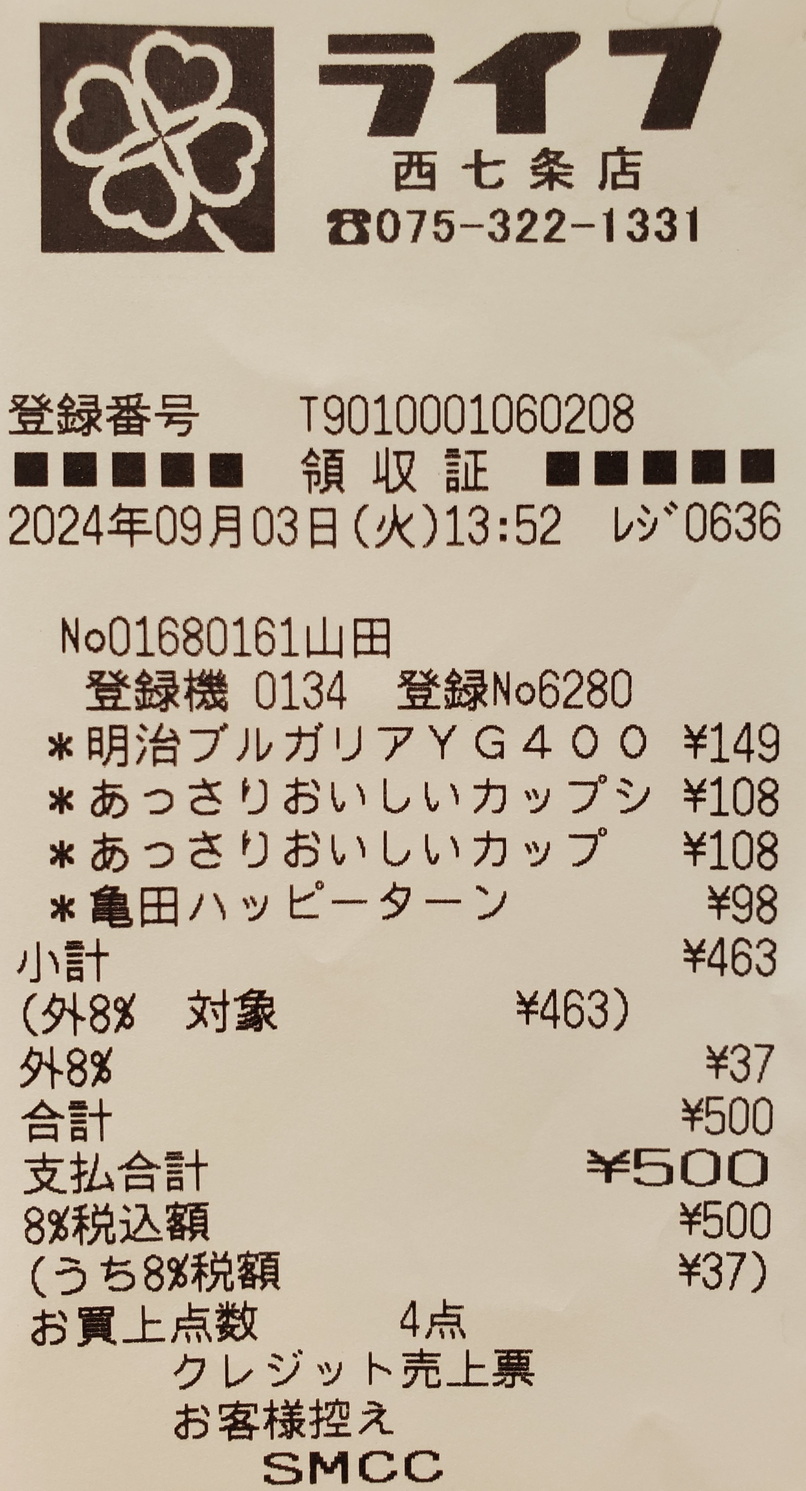Date: (8, 498, 348, 556)
Shopname: (312, 21, 731, 139)
Telnum: (375, 197, 715, 253)
Totalpay: (21, 1143, 793, 1195)
